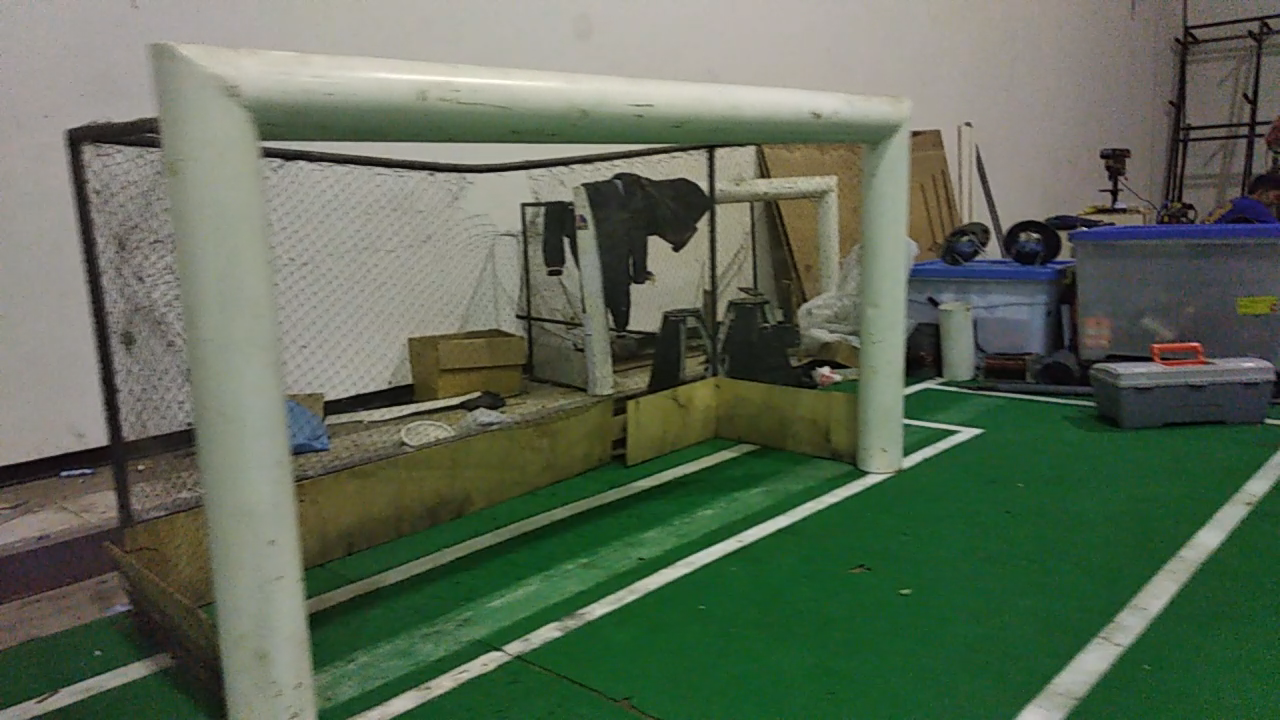gawang: (142, 29, 925, 715)
